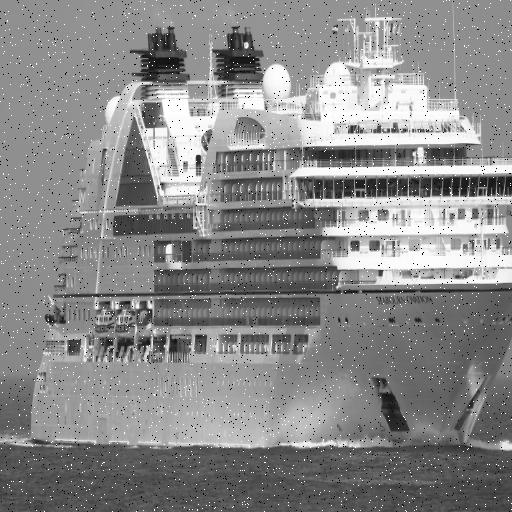cruises: (23, 4, 512, 462)
